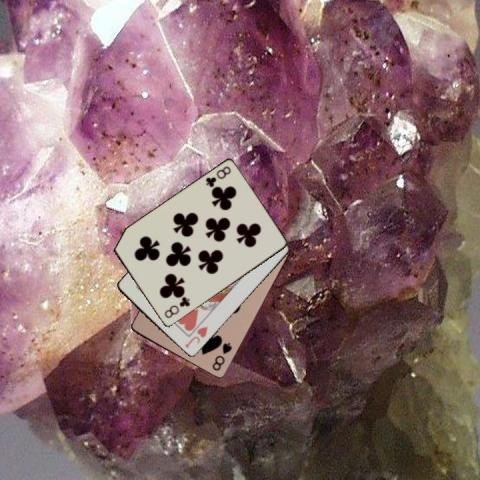8c: (203, 163, 232, 189), (162, 295, 192, 320)
8s: (210, 339, 234, 373)
Jh: (182, 323, 209, 350)
